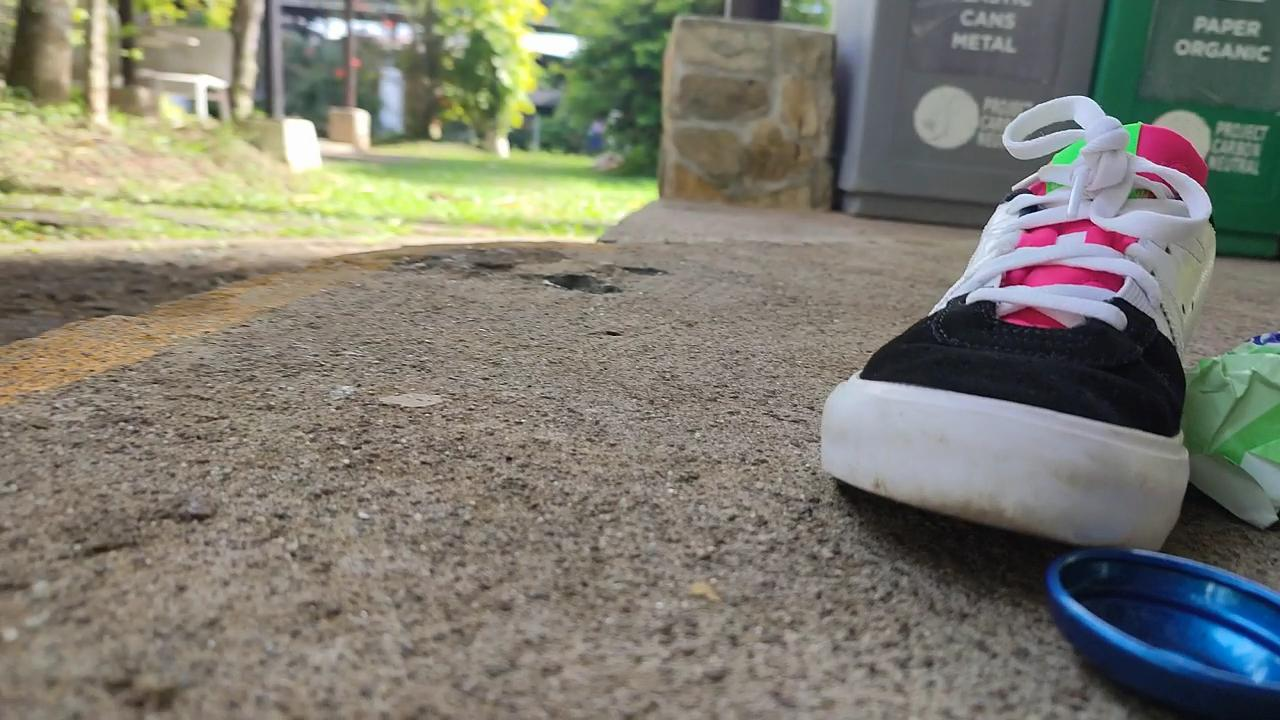Paper: (1175, 312, 1280, 539)
